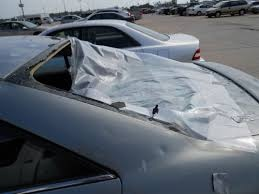Dent: (50, 38, 242, 141)
